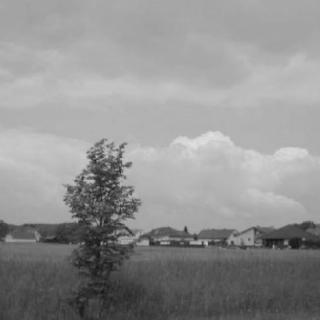Cumulus: (0, 1, 320, 234)
